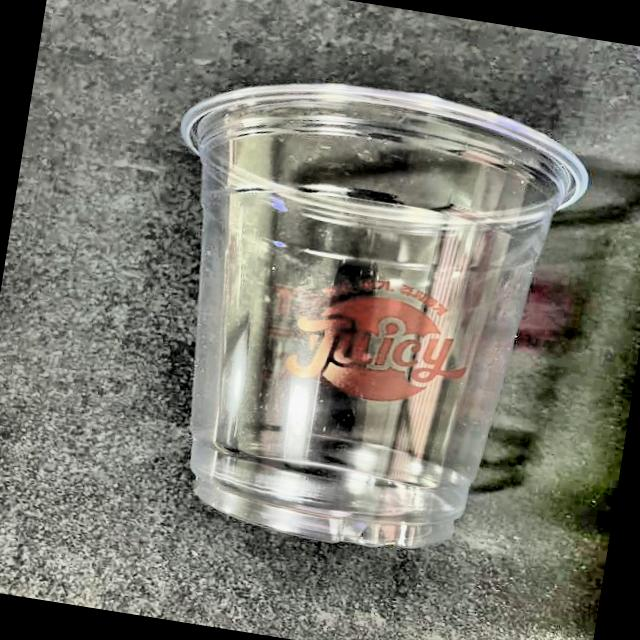plastic cup: (112, 48, 610, 587)
